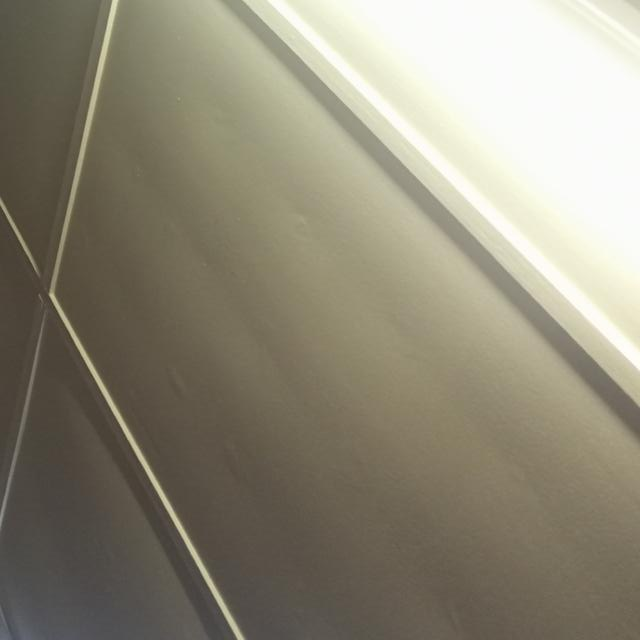fluorescent tube: (111, 0, 640, 407)
